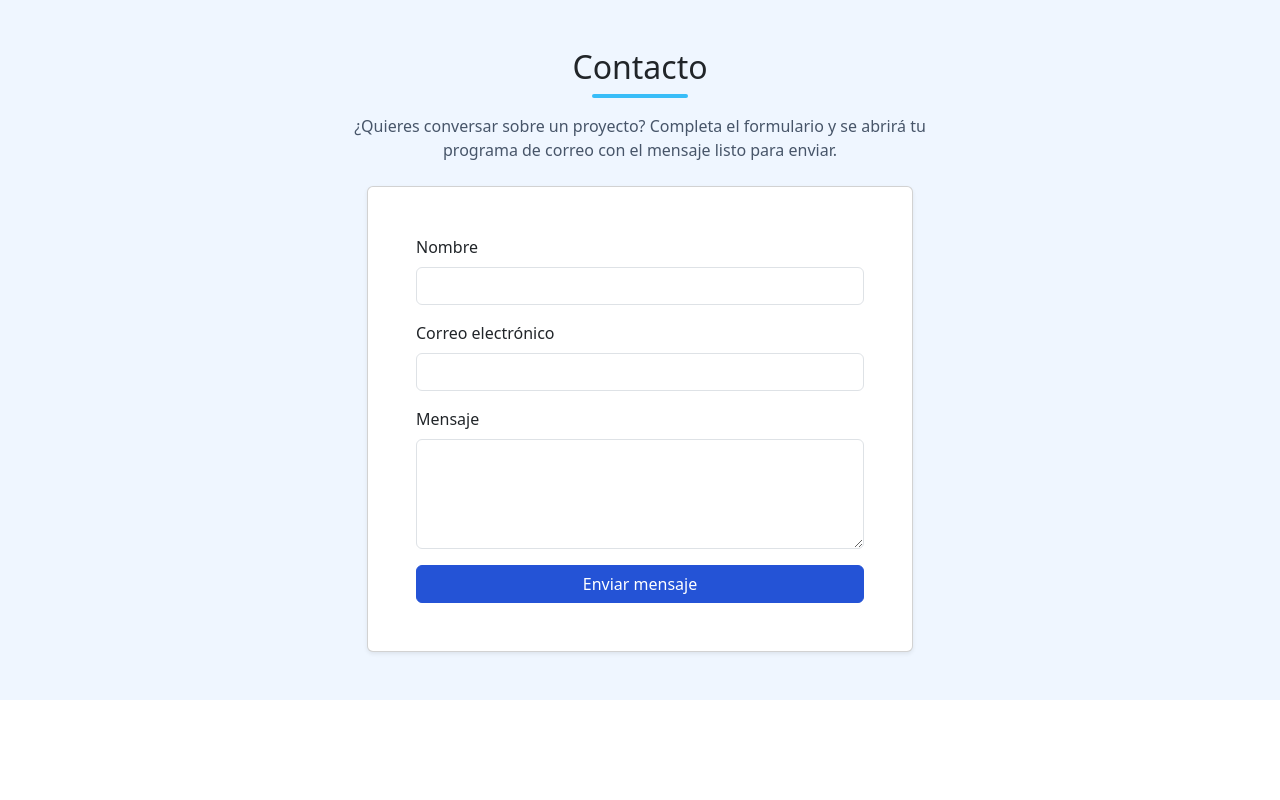
Test: Contacto › el error de un campo desaparece al corregirlo
Submit the form, box [416, 235, 864, 603]
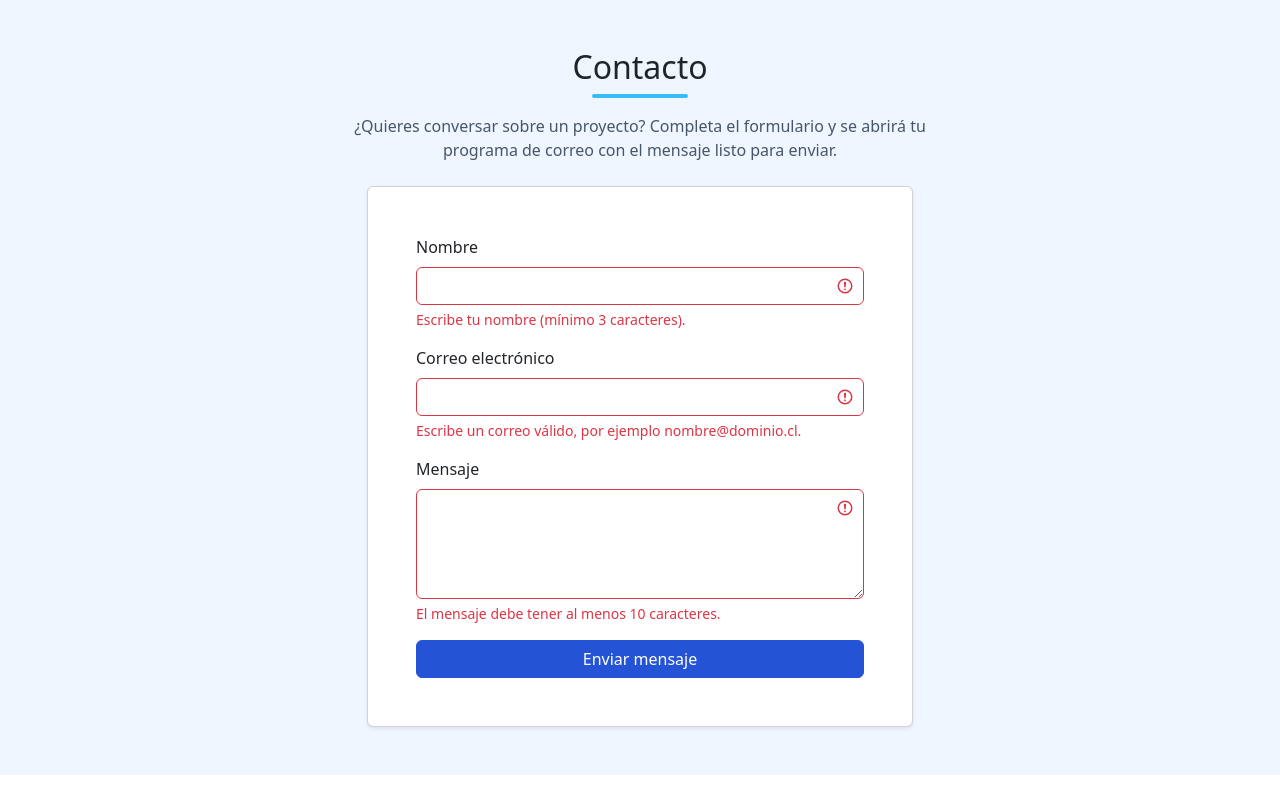
Clear the field with id "contacto-nombre": (640, 286) [416, 267, 864, 305]
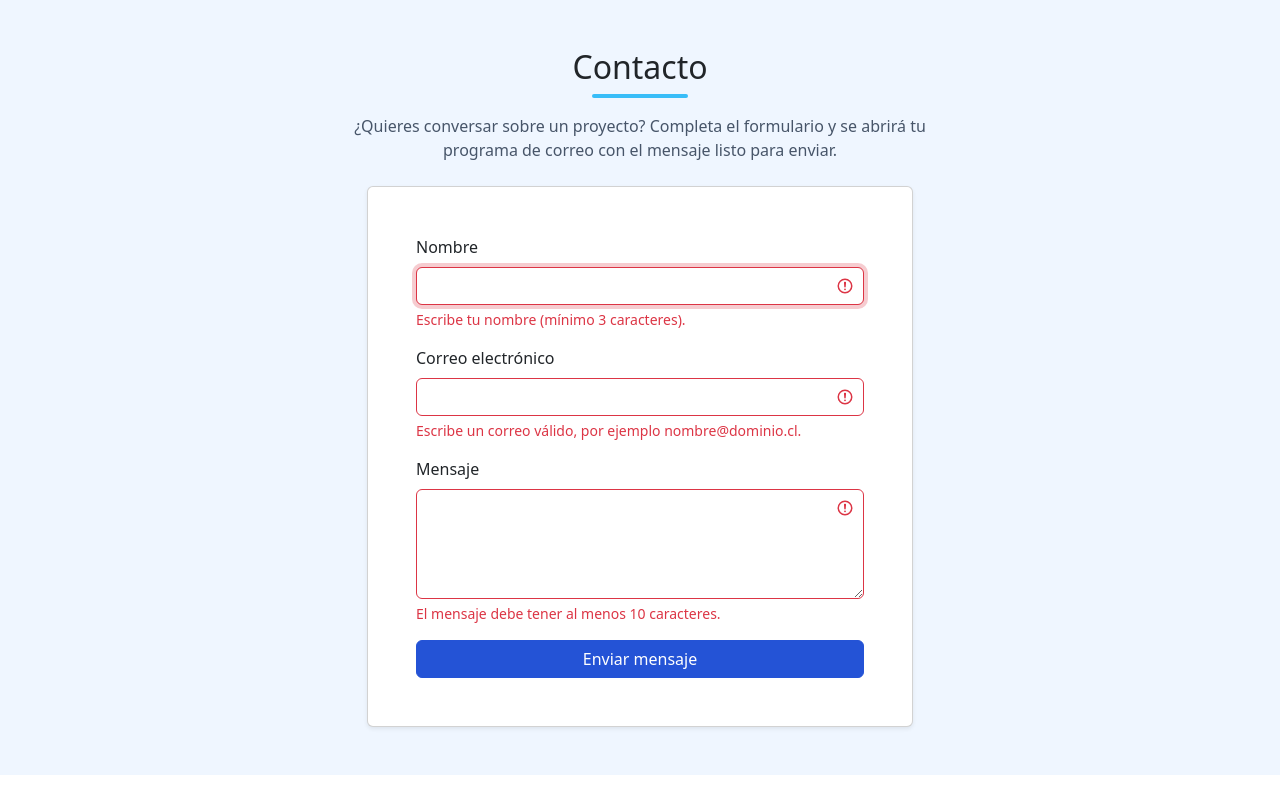
Type keys "Ana"
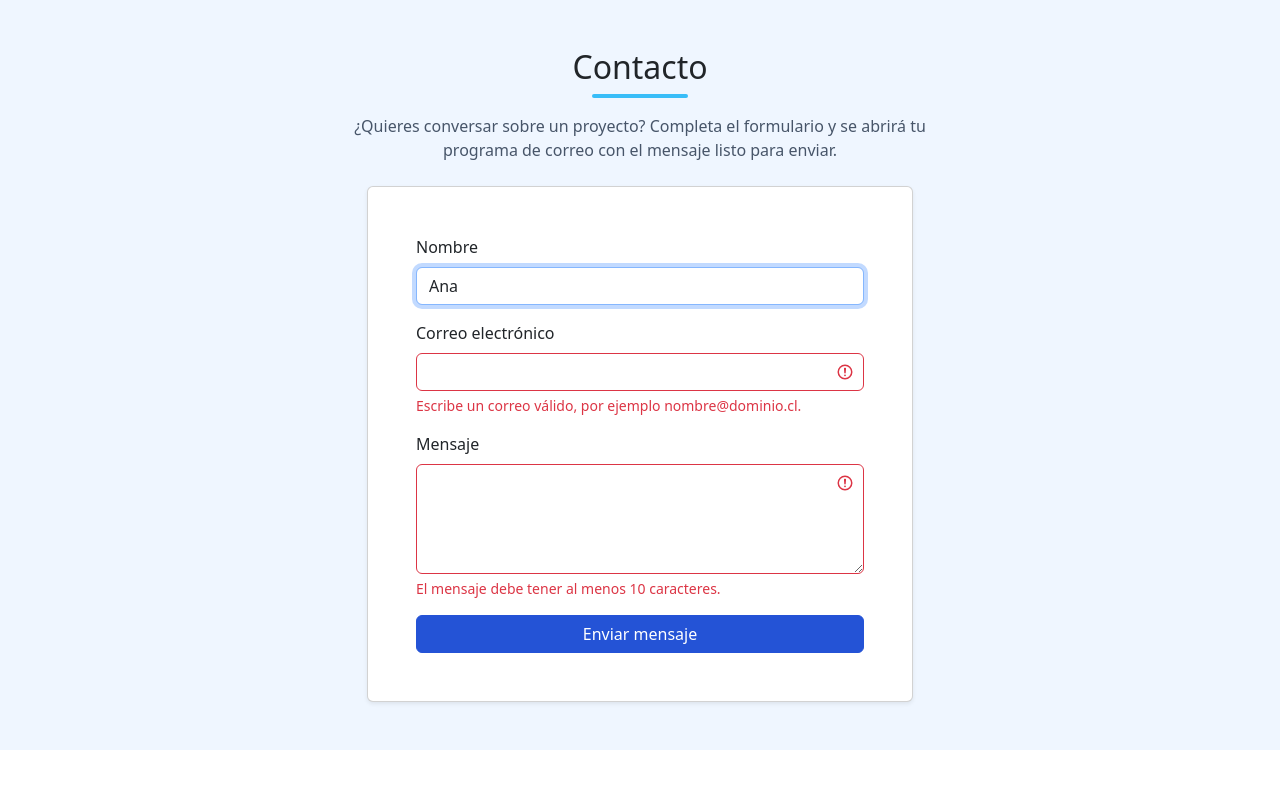
Result: the text "Escribe un correo válido, por ejemplo nombre@dominio.cl." is shown at [416, 395, 864, 416]
Result: the text with id "contacto-nombre-error" is gone
